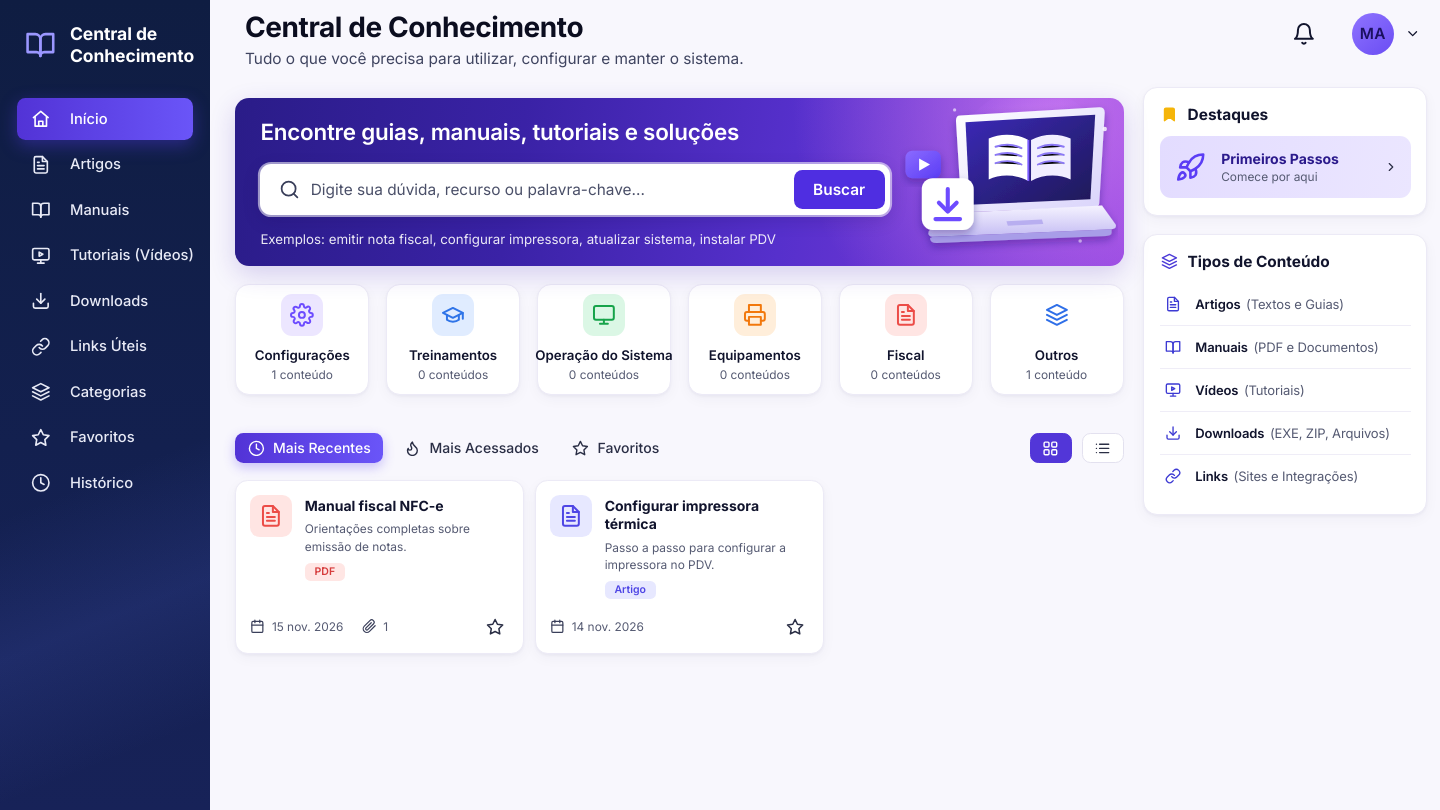
Test: Central de Conhecimento › abre o conteúdo, registra no histórico e volta
Later steps or results of the test are not shown.
Step 1. Click the button "Manual fiscal NFC-e" → (374, 506), box [305,496,444,515]
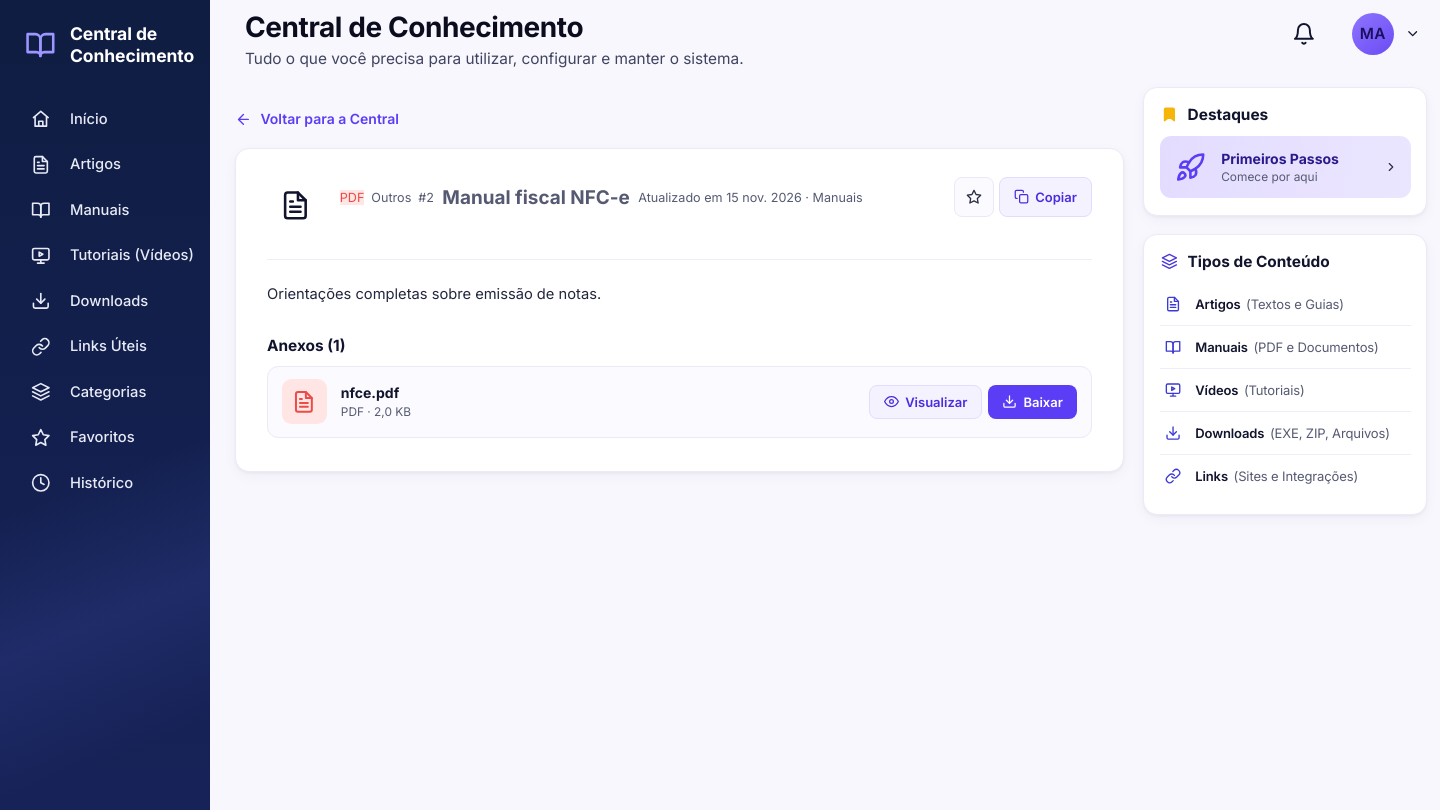
expect the heading "Manual fiscal NFC-e" is shown: met, box [442,186,630,209]
expect the text "nfce.pdf" is shown: met, box [341,384,399,401]
